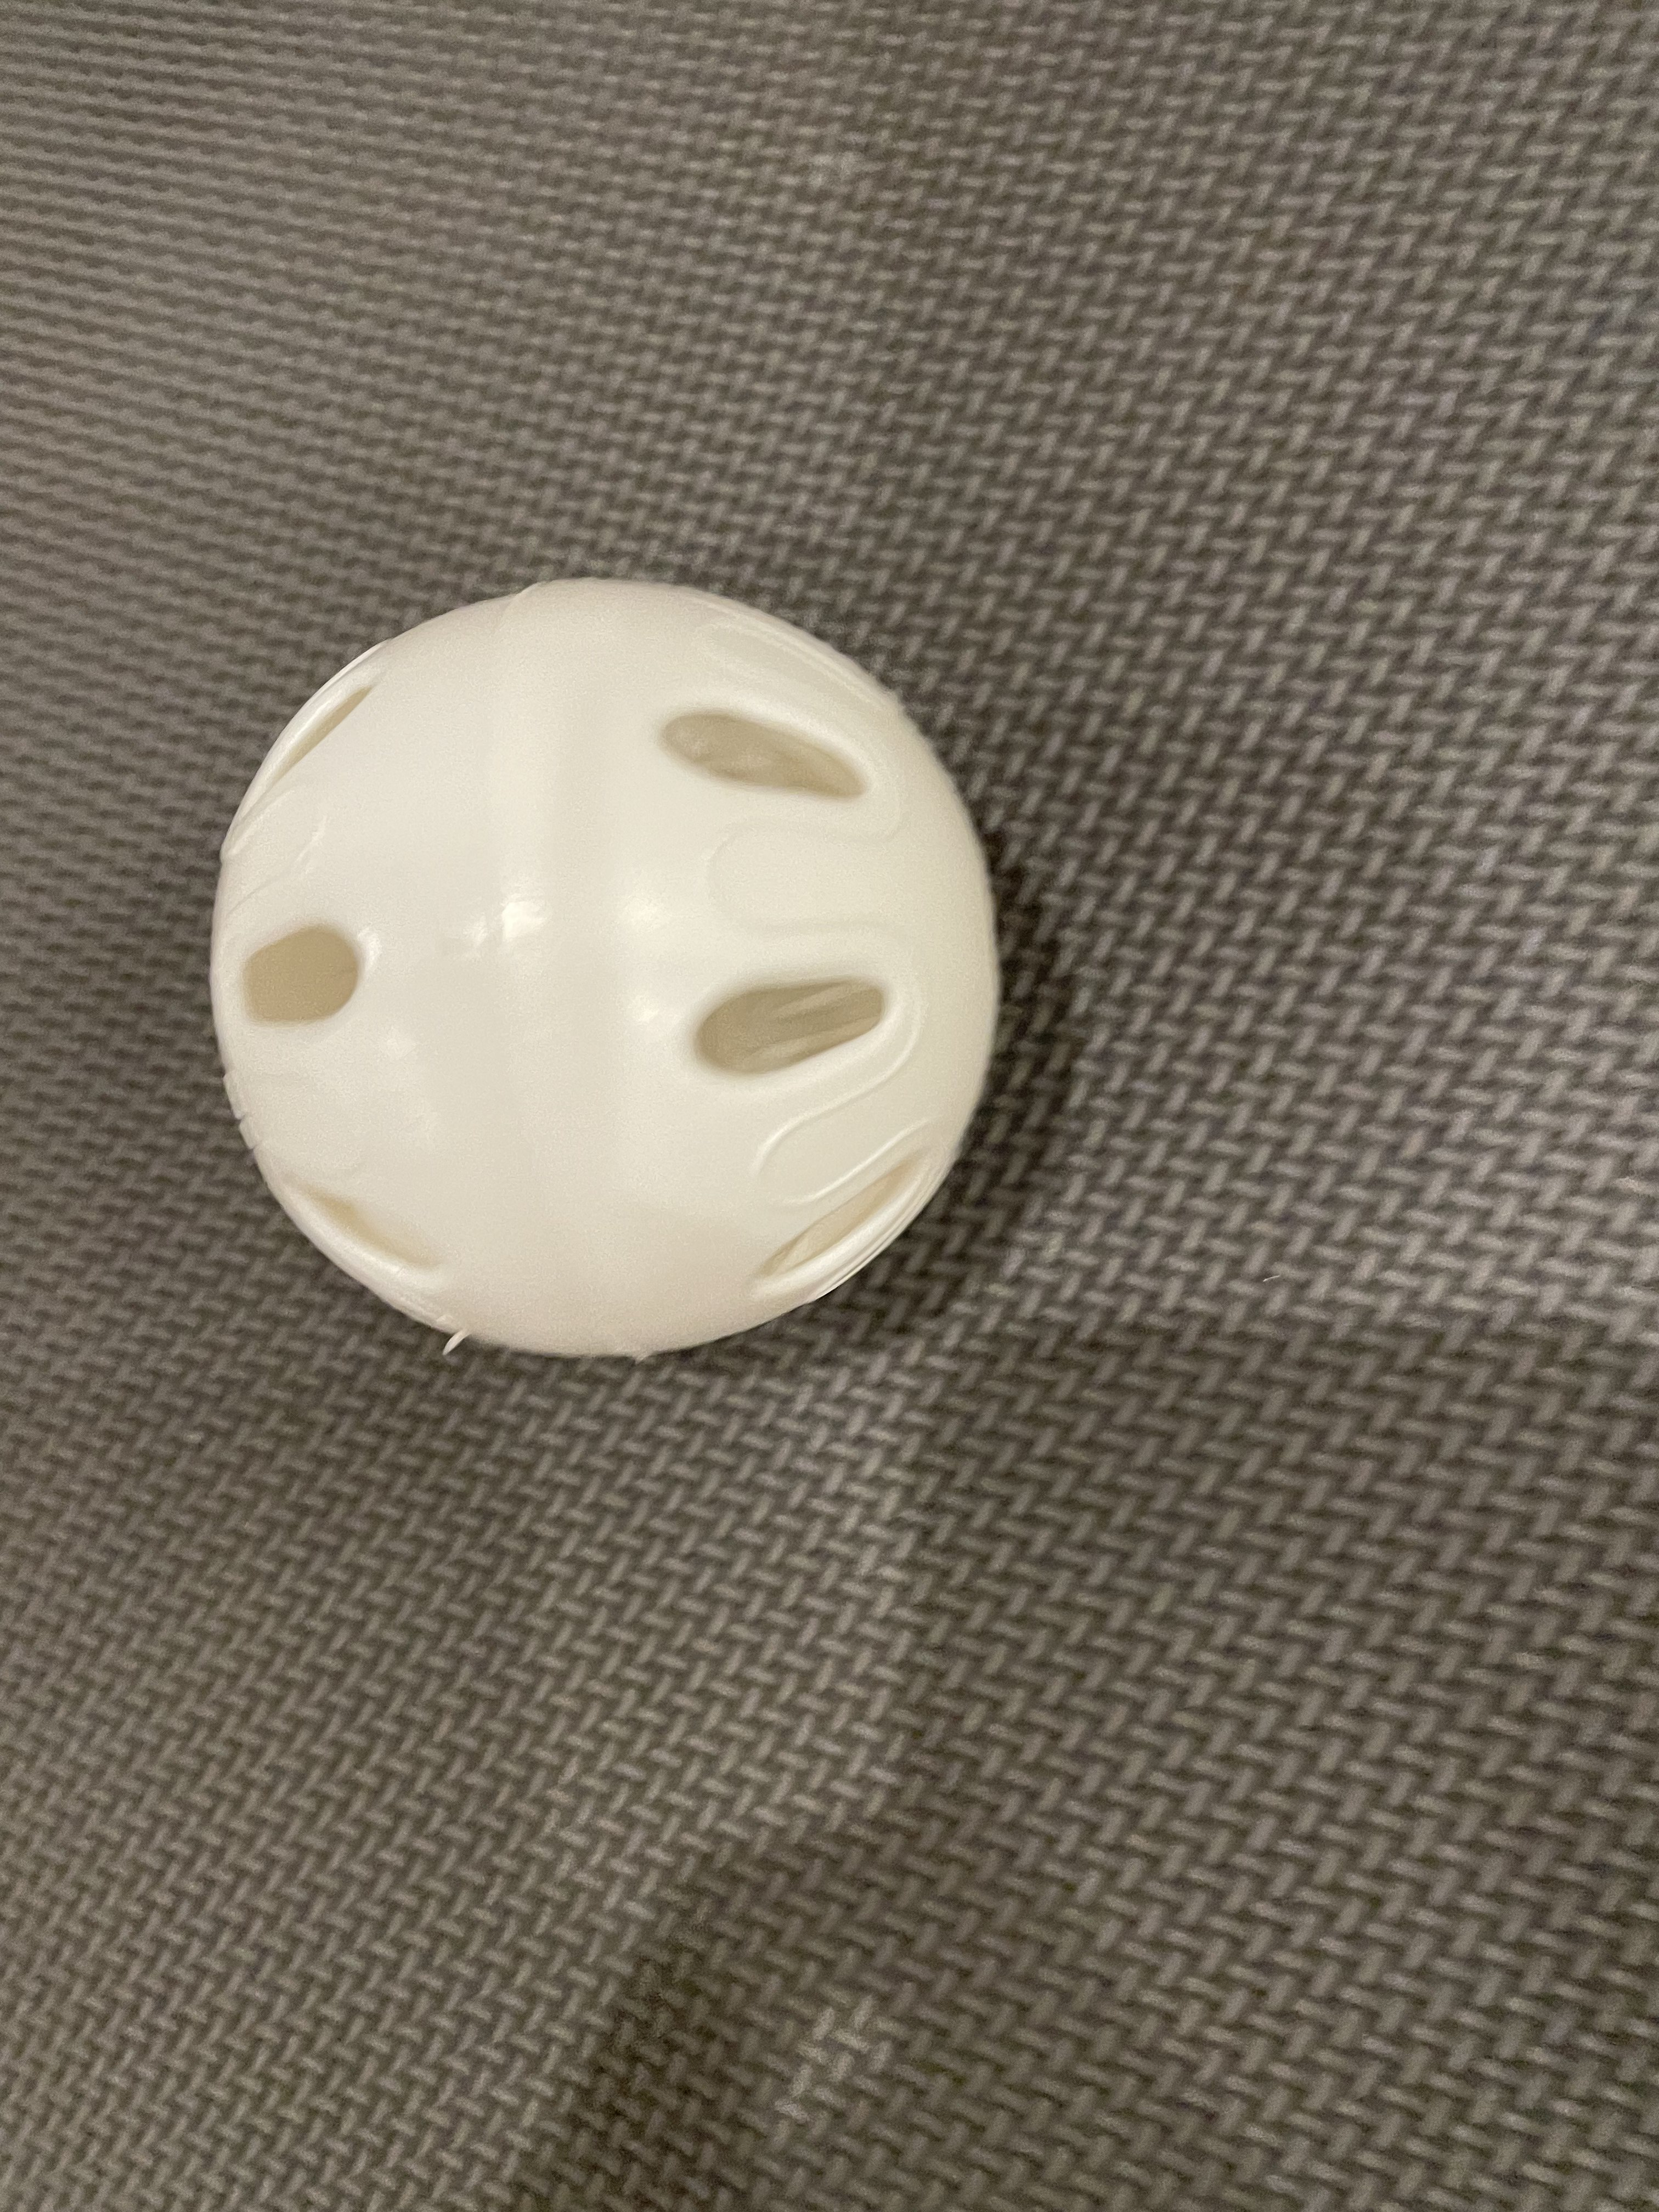ball: (99, 526, 1044, 1470)
